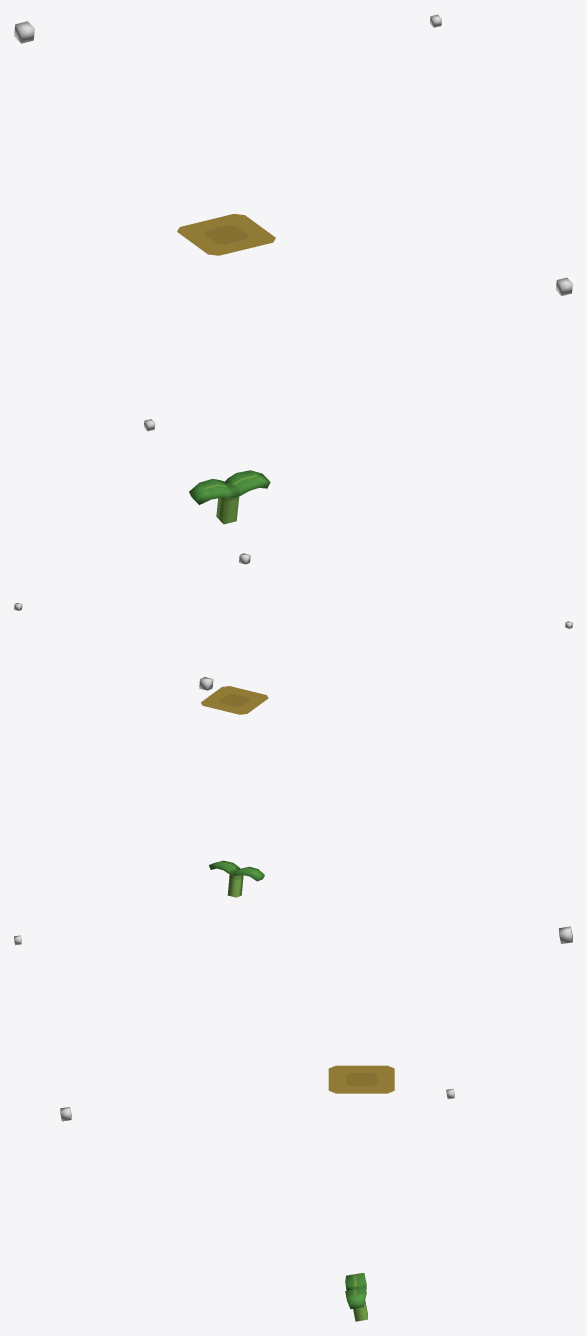
File: E_SP_Yadoriginotane_Start.fbx
The picture shows the model from 3 angles, top to bottom: view 1: azimuth 30°, elevation 25°; view 2: azimuth 150°, elevation 25°; view 3: azimuth 270°, elevation 25°; orthographic projection. The views are drawn at different scales.
Parts seen in each view (by area): view 1: ground, plantmodel; view 2: ground, plantmodel; view 3: ground, plantmodel.
Boxes of the visible parts, <box> form: ground: <box>177,214,275,255</box>; plantmodel: <box>189,470,270,524</box>; ground: <box>201,686,268,714</box>; plantmodel: <box>209,860,264,897</box>; ground: <box>328,1065,394,1093</box>; plantmodel: <box>345,1273,367,1321</box>.
Size of the model in its own units: 0.1015 by 0.0749 by 0.1062.
